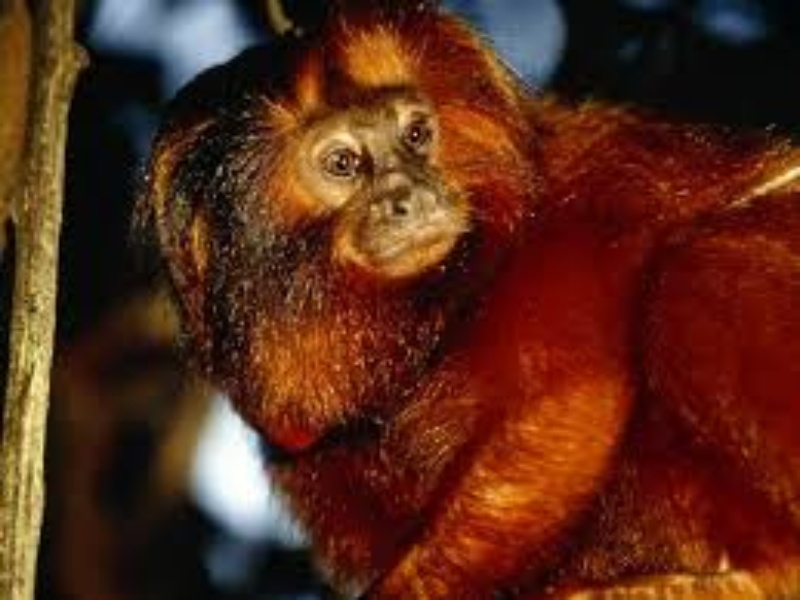monkey: (109, 16, 785, 578)
